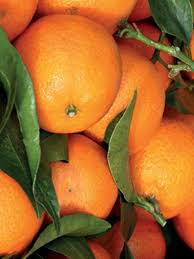orange: (12, 14, 126, 132), (24, 132, 122, 231), (125, 113, 194, 226)
